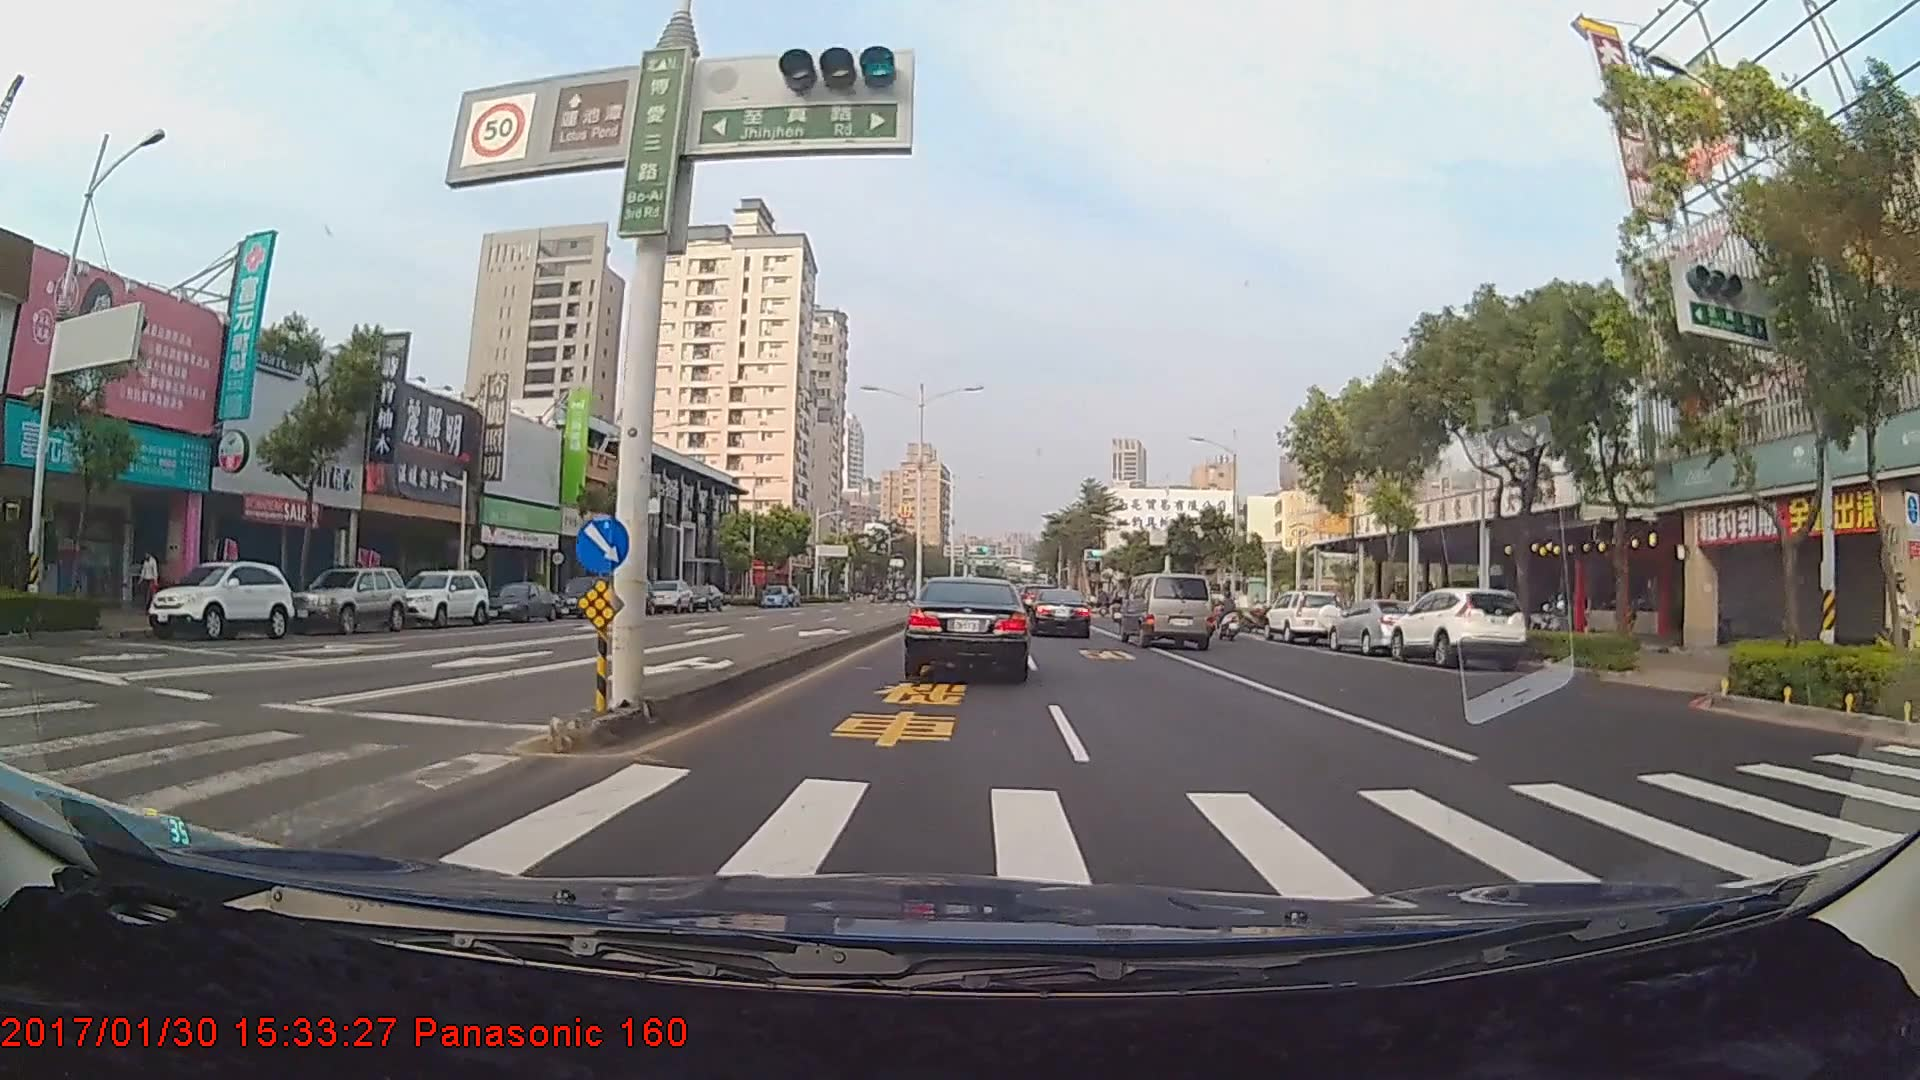pedestrian: (140, 553, 162, 618)
rider: (1211, 592, 1245, 642)
vehicle: (905, 574, 1028, 681), (1384, 585, 1529, 669), (144, 561, 291, 640), (290, 565, 407, 637), (1117, 572, 1214, 649), (393, 569, 491, 630), (1325, 597, 1427, 657), (1266, 591, 1343, 646), (1021, 587, 1092, 639), (476, 579, 560, 621), (554, 576, 617, 618), (644, 579, 695, 614), (683, 584, 724, 612), (759, 583, 789, 608)
